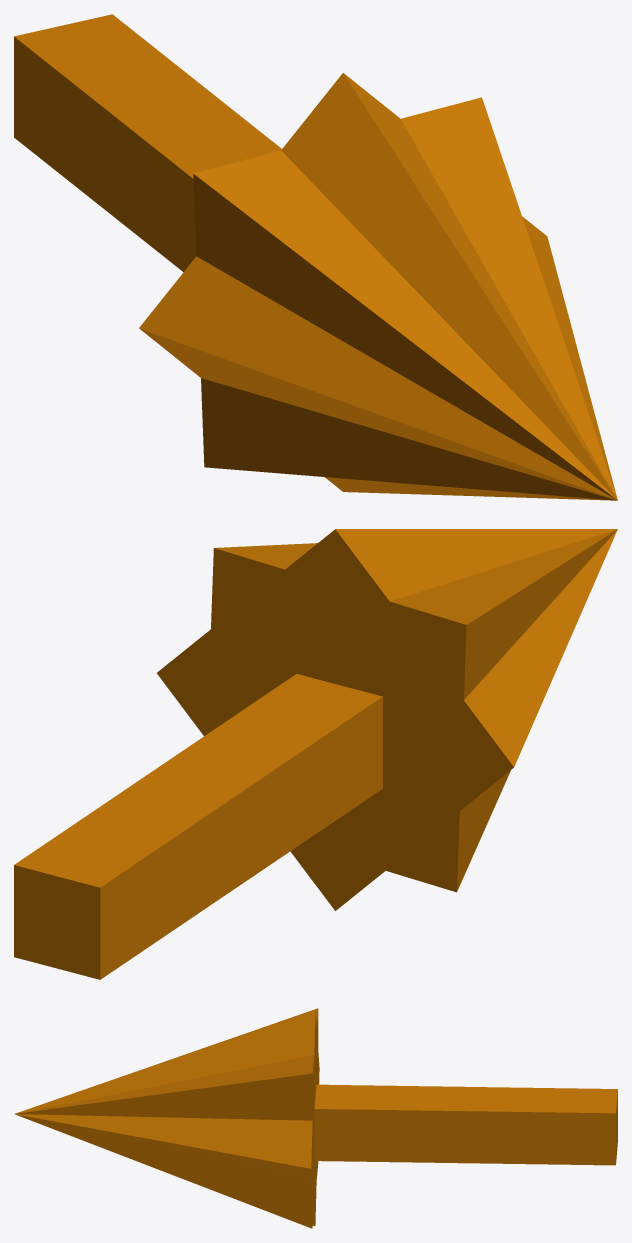
Rendered from Target.obj.
3 views of the same model, one above another, from view 1: azimuth 30°, elevation 25°; view 2: azimuth 150°, elevation 25°; view 3: azimuth 270°, elevation 25° (orthographic). The views are drawn at different scales.
Parts seen in each view (by area): view 1: 円錐; view 2: 円錐; view 3: 円錐.
Part boxes in pixels (x1,y1,x2,y2): 円錐: (14, 14, 617, 500); 円錐: (14, 529, 617, 979); 円錐: (14, 1008, 617, 1228).
Bounding box in the file's own units: 1.03 × 1.03 × 2.61.
